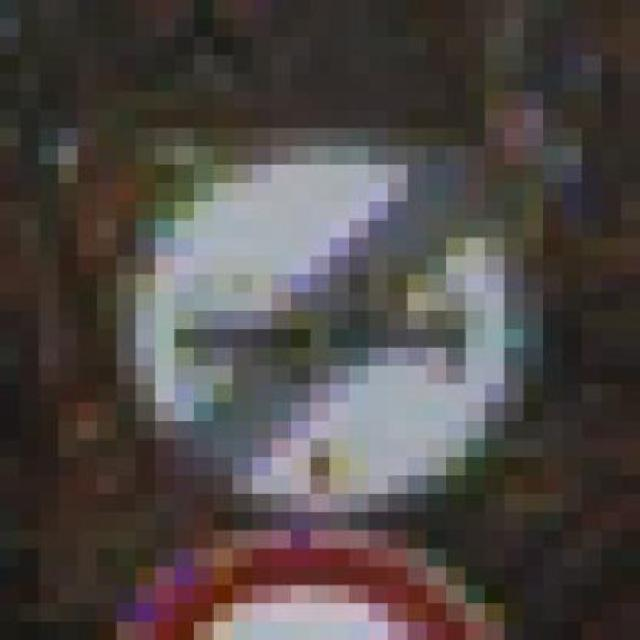No_Over_Taking: (97, 72, 563, 512)
